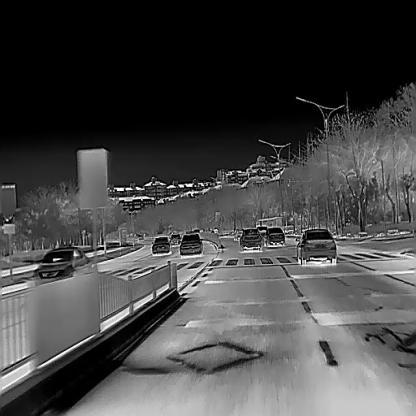car: (30, 246, 97, 286), (296, 227, 337, 265), (239, 227, 263, 252), (179, 232, 203, 256), (263, 226, 285, 245), (151, 236, 171, 254), (169, 233, 181, 245), (255, 225, 266, 238), (233, 228, 242, 240)
